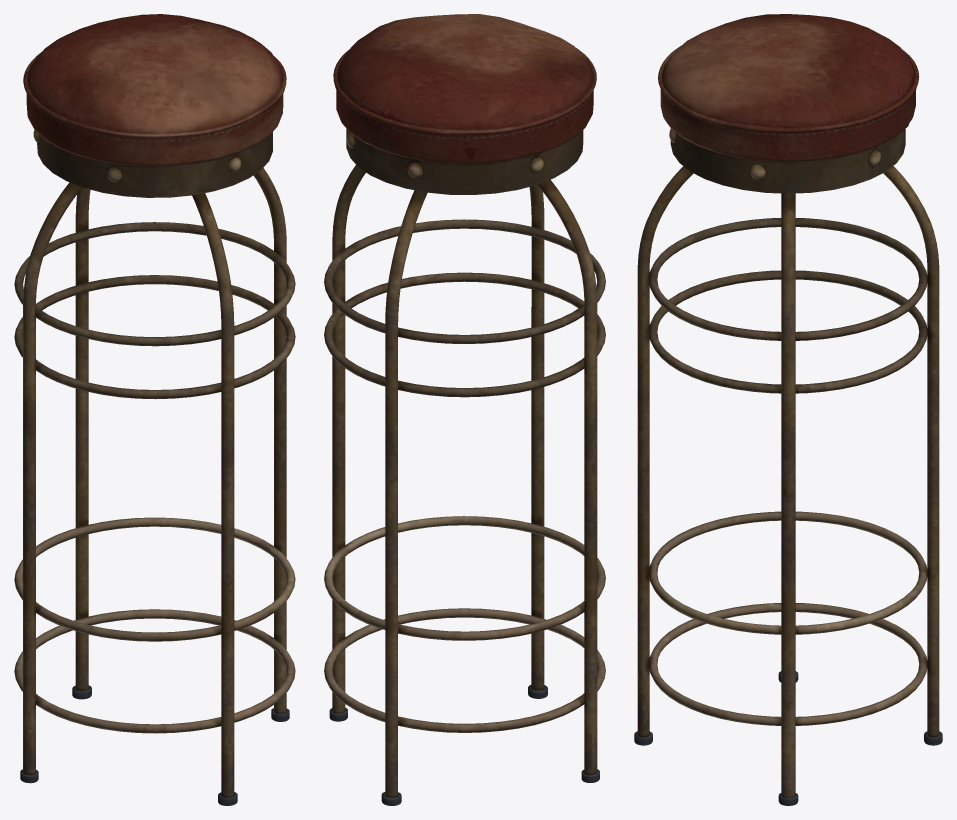
File: metal_stool_01.glb
The picture shows the model from 3 angles, left to right: view 1: azimuth 30°, elevation 25°; view 2: azimuth 150°, elevation 25°; view 3: azimuth 270°, elevation 25°; orthographic projection.
Visible parts, largest first — view 1: metal_stool_01; view 2: metal_stool_01; view 3: metal_stool_01.
Boxes of the visible parts, x1,y1,x2,y2 form: metal_stool_01: (14,14,295,805); metal_stool_01: (324,14,605,805); metal_stool_01: (634,14,942,805).
Bounding box in the file's own units: 0.352 × 0.8828 × 0.3546.
Materials: 1 (1 with a texture image).
